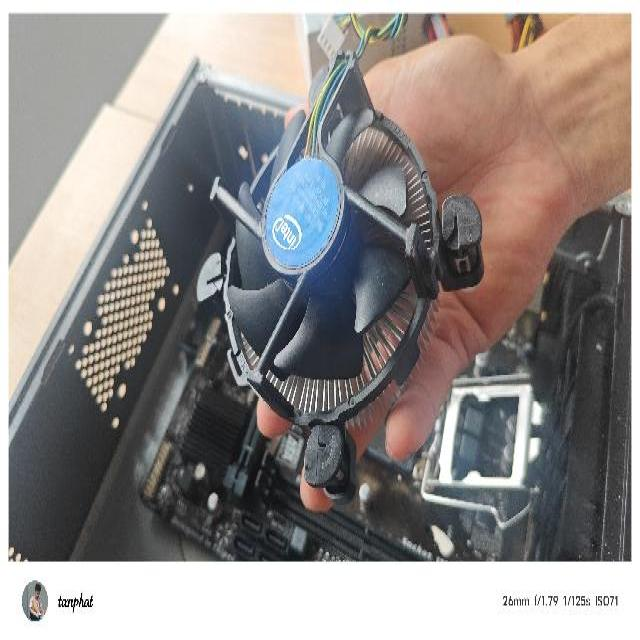CPU_Fan: (196, 41, 486, 510)
